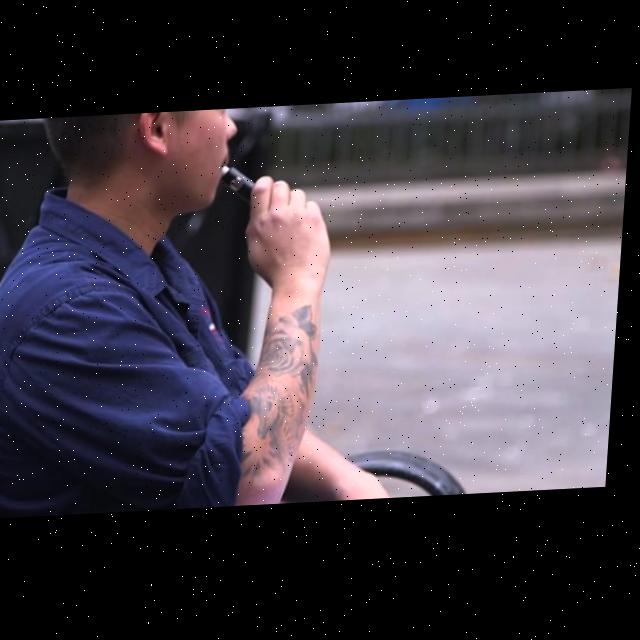vape: (222, 165, 258, 205)
